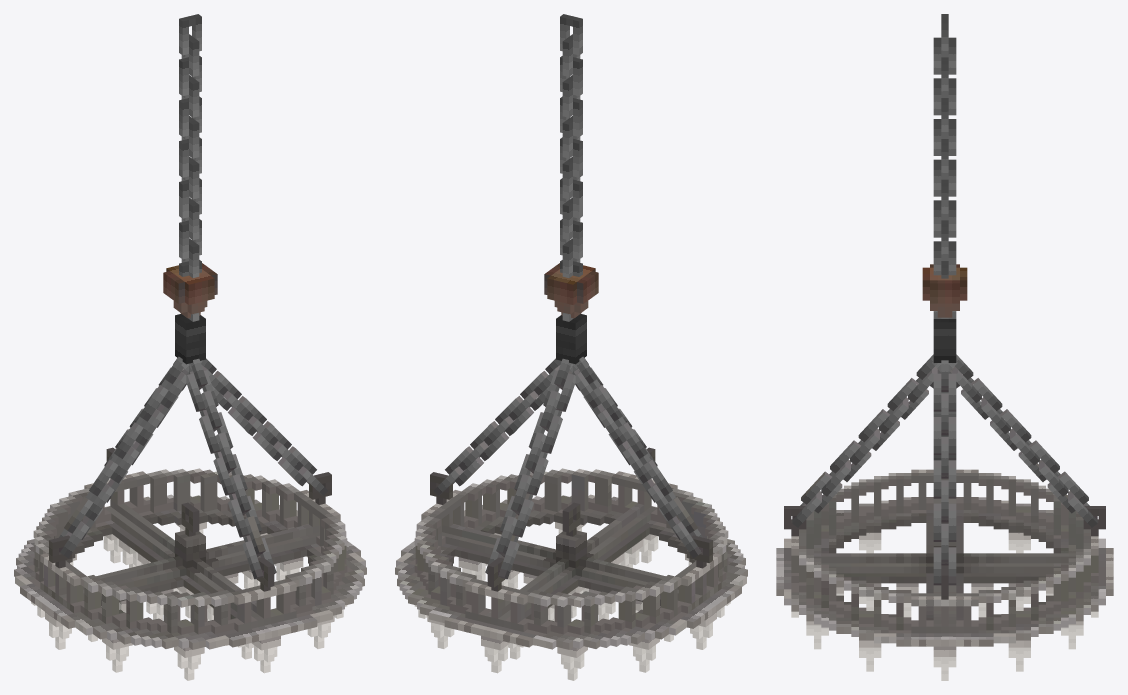
File: trap-18.glb
The picture shows the model from 3 angles, left to right: view 1: azimuth 30°, elevation 25°; view 2: azimuth 150°, elevation 25°; view 3: azimuth 270°, elevation 25°; orthographic projection.
Visible parts, largest first — view 1: base-Local; view 2: base-Local; view 3: base-Local.
Part boxes in pixels (x1,y1,x2,y2): base-Local: (14, 14, 366, 680); base-Local: (395, 14, 747, 680); base-Local: (776, 14, 1113, 680).
Bounding box in the file's own units: 1 × 1.96 × 1.
Materials: 4 (4 with a texture image).
